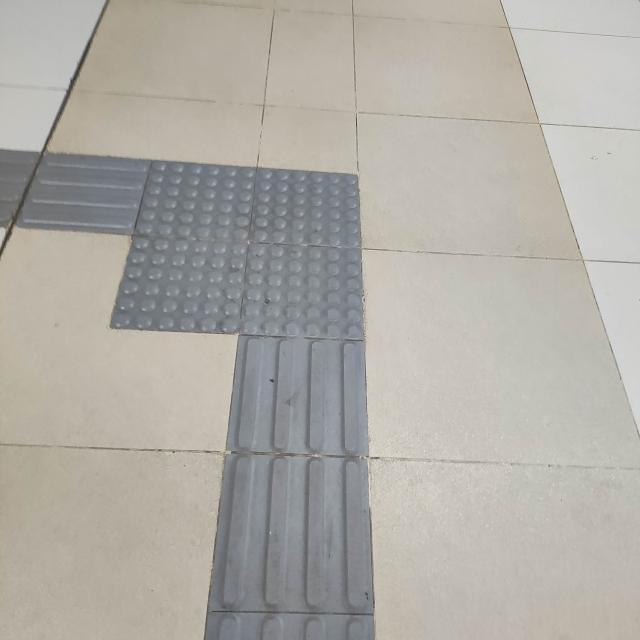kiri: (0, 89, 431, 434)
